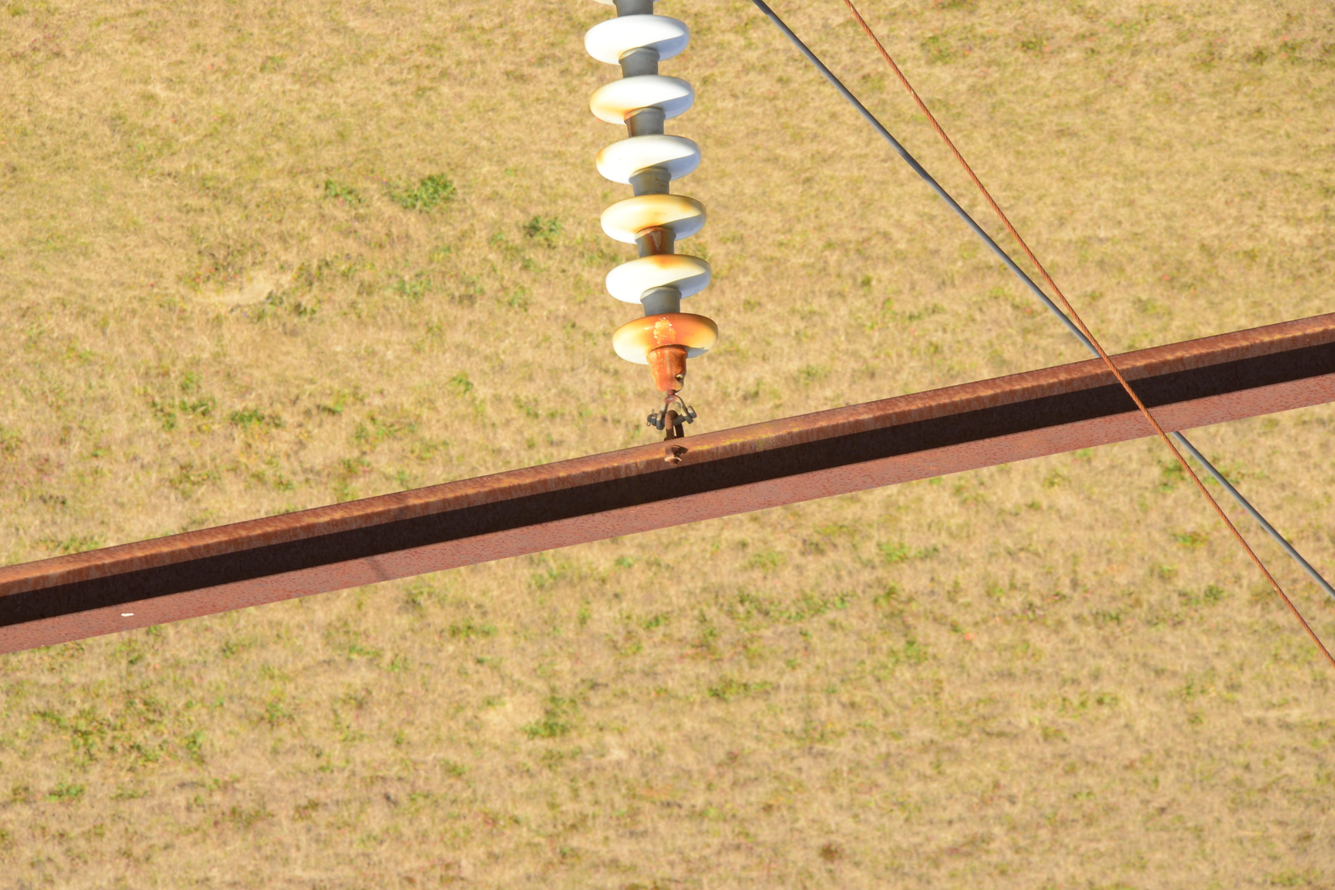Flashover: (651, 316, 677, 351)
insulator: (580, 0, 718, 370)
